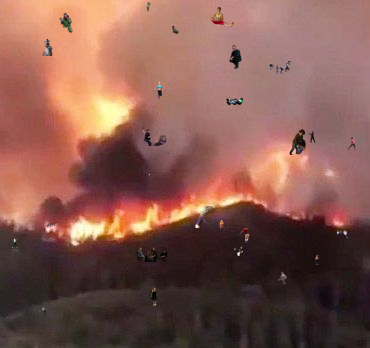Human: (195, 206, 218, 228), (209, 7, 234, 27), (141, 287, 167, 306), (288, 129, 307, 155), (142, 127, 168, 146), (136, 247, 168, 262), (269, 61, 300, 76), (229, 45, 242, 69), (59, 13, 73, 33), (152, 81, 166, 99), (239, 225, 251, 243), (41, 39, 53, 56), (226, 97, 243, 105), (336, 230, 348, 240), (278, 272, 287, 284), (348, 137, 356, 150), (308, 131, 316, 143), (237, 246, 244, 256), (219, 220, 225, 230), (172, 26, 179, 34), (12, 238, 17, 248), (146, 2, 151, 12), (46, 223, 55, 228), (315, 255, 319, 265), (42, 307, 46, 315), (146, 172, 150, 177), (362, 241, 365, 246), (234, 248, 236, 251), (167, 152, 169, 154), (268, 187, 270, 189), (315, 4, 316, 6)
